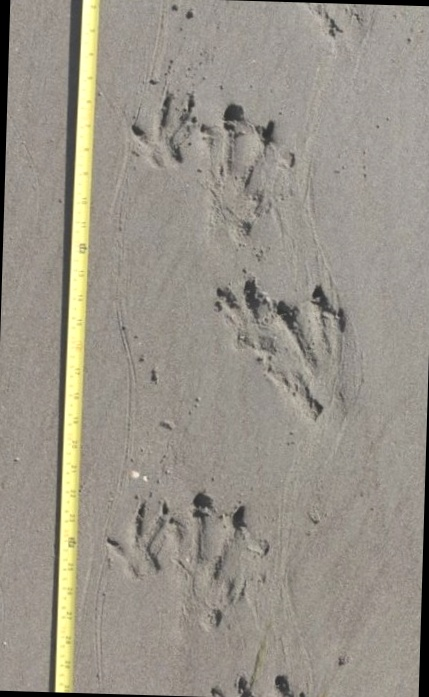beaver: (184, 264, 383, 446), (114, 92, 302, 265), (86, 480, 273, 653)
